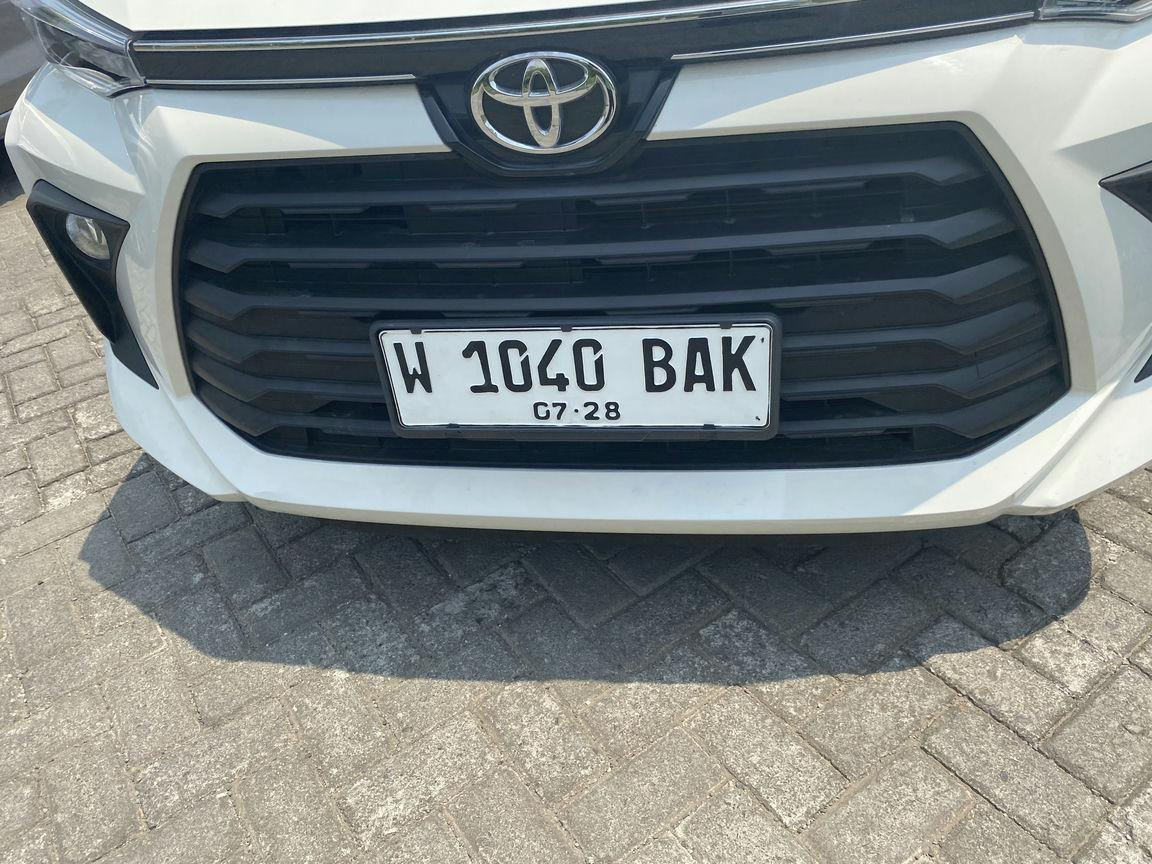plat: (376, 320, 778, 439)
